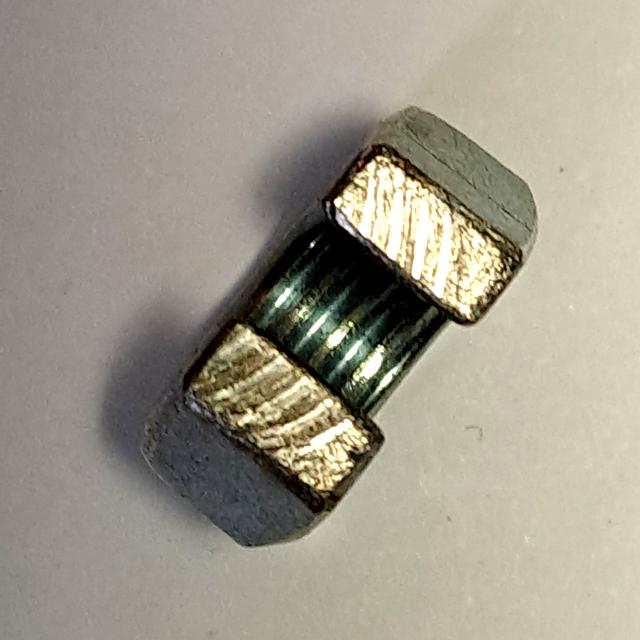Side-Fracture: (130, 98, 558, 566)
